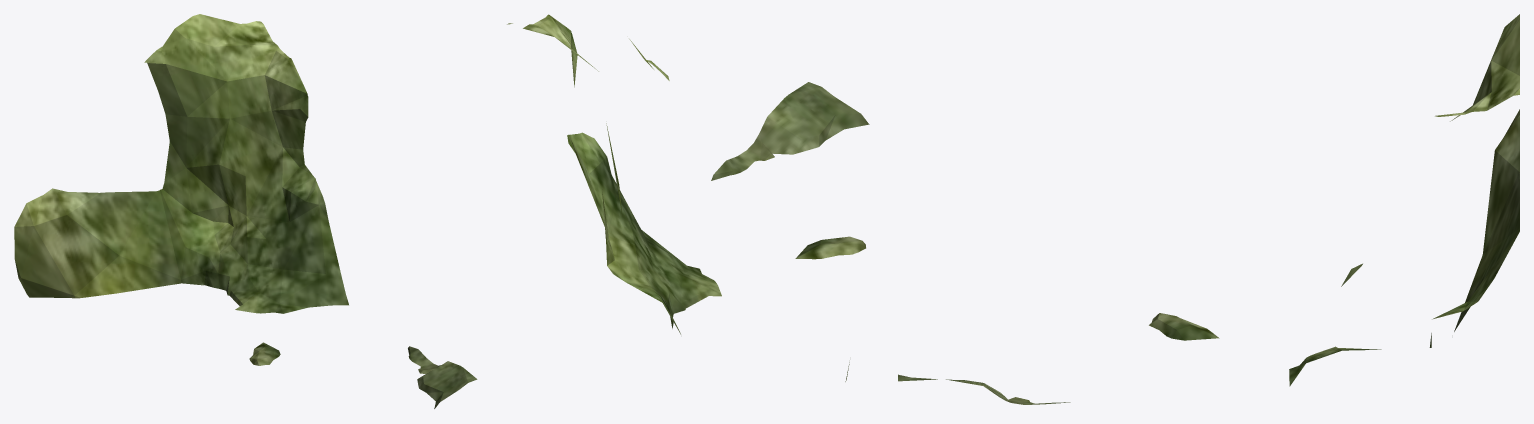
3 renders of one model, left to right at view 1: azimuth 30°, elevation 25°; view 2: azimuth 150°, elevation 25°; view 3: azimuth 270°, elevation 25°, orthographic. The views are drawn at different scales.
Size of the model in its own units: 1.94 by 1.82 by 2.95.
Materials: 1 (1 with a texture image).
